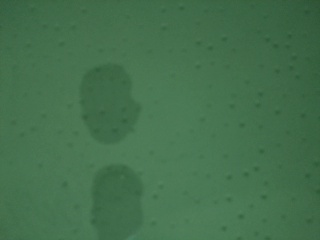Water_detected: (74, 71, 134, 135), (97, 175, 138, 237)
